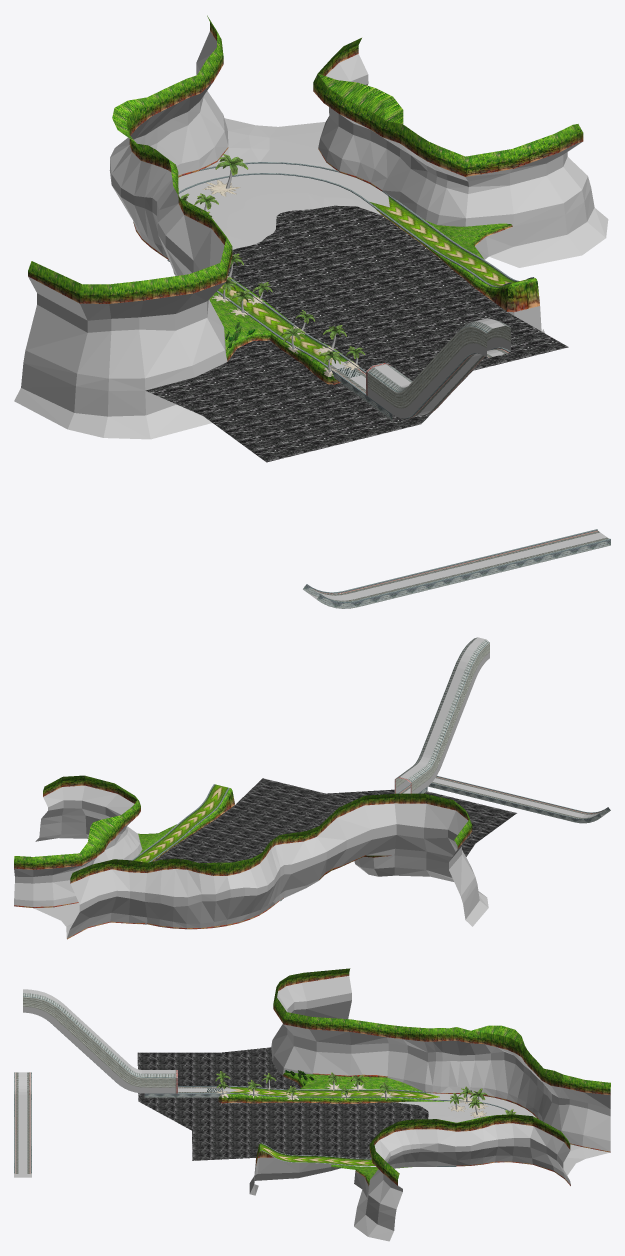
File: Seaside_course1.obj
3 views of the same model, one above another, from view 1: azimuth 30°, elevation 25°; view 2: azimuth 150°, elevation 25°; view 3: azimuth 270°, elevation 25° (orthographic). The views are drawn at different scales.
Parts seen in each view (by area): view 1: obj1, obj5, obj2, obj3, Object_2; view 2: obj1, obj5; view 3: obj1, obj5, obj2, obj3, Object_2.
Part boxes in pixels (x1,y1,x2,y2): obj1: [14, 15, 610, 608]; obj5: [145, 205, 568, 462]; obj2: [178, 163, 508, 417]; obj3: [180, 154, 365, 364]; Object_2: [202, 180, 359, 376]; obj1: [14, 637, 610, 939]; obj5: [154, 778, 516, 863]; obj1: [14, 968, 610, 1241]; obj5: [137, 1047, 428, 1160]; obj2: [178, 1087, 536, 1117]; obj3: [215, 1070, 515, 1114]; Object_2: [216, 1083, 488, 1117].
Bounding box in the file's own units: 5997 × 2172 × 7659.
